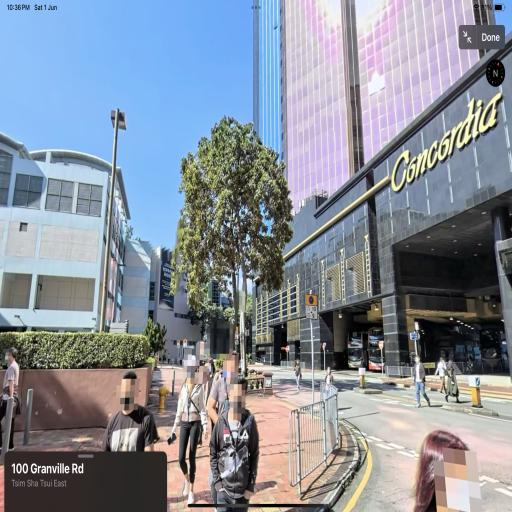Roads: (264, 358, 506, 512)
Trees: (150, 93, 316, 407)
